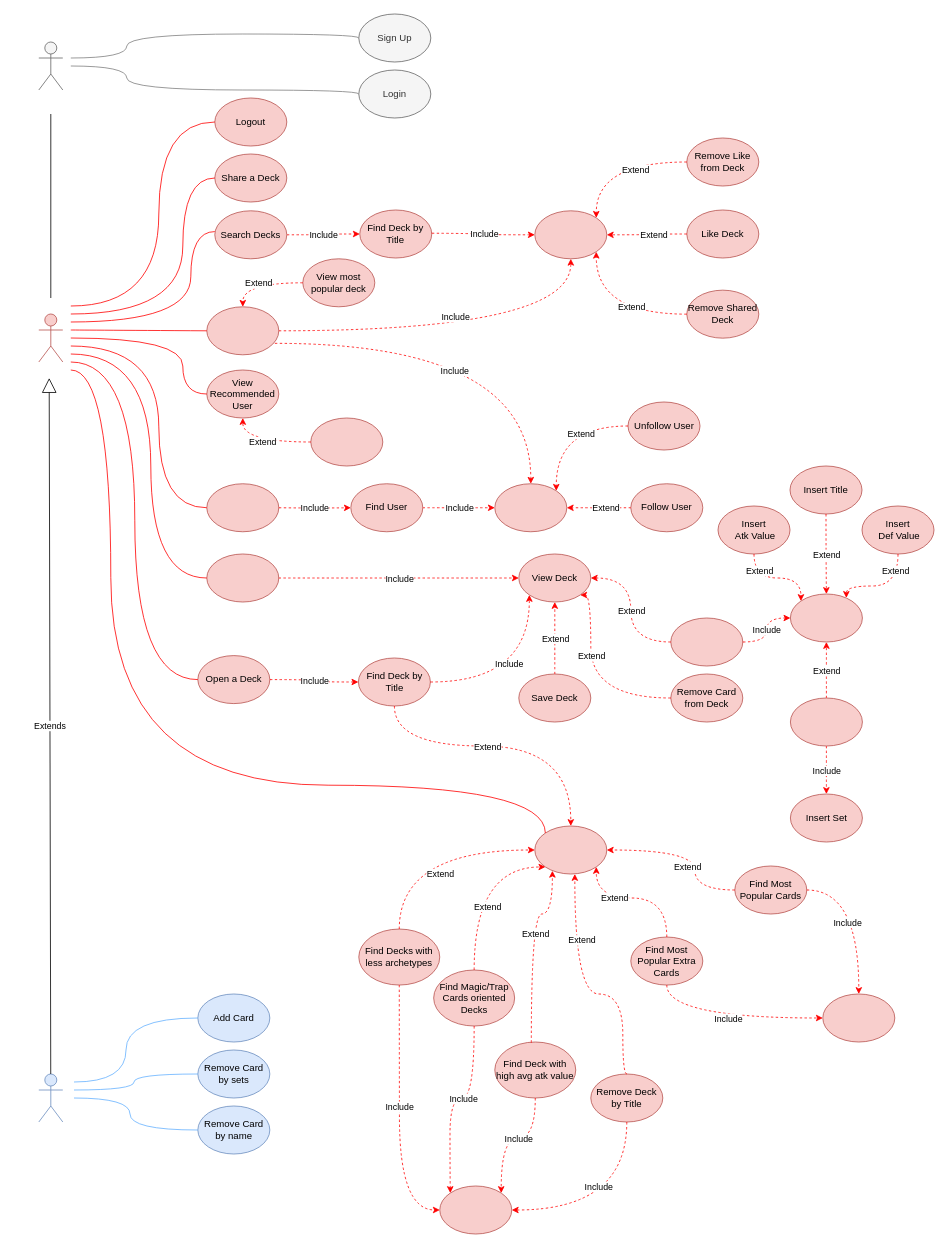
Image size: 948x1248. Some labels were removed from this diagram. Here are the shapes that lost their labels. From the top down, the box of each, then its label:
(38, 41, 63, 90): Anonymous User
(534, 210, 607, 259): Show Deck Details
(38, 313, 63, 362): User
(206, 306, 279, 355): View Recommended Decks
(310, 417, 383, 466): View most popular user
(206, 483, 279, 532): Search User
(494, 483, 567, 532): Show User Details
(206, 553, 279, 602): Create Deck
(790, 593, 862, 642): Find Card
(670, 617, 743, 666): Add Card to a Deck
(790, 697, 862, 746): Find Card with highest atk
(534, 825, 607, 874): Browse Saved Decks
(822, 993, 895, 1042): Show Card Results
(38, 1073, 63, 1122): Admin
(439, 1185, 512, 1234): Show Deck Results
